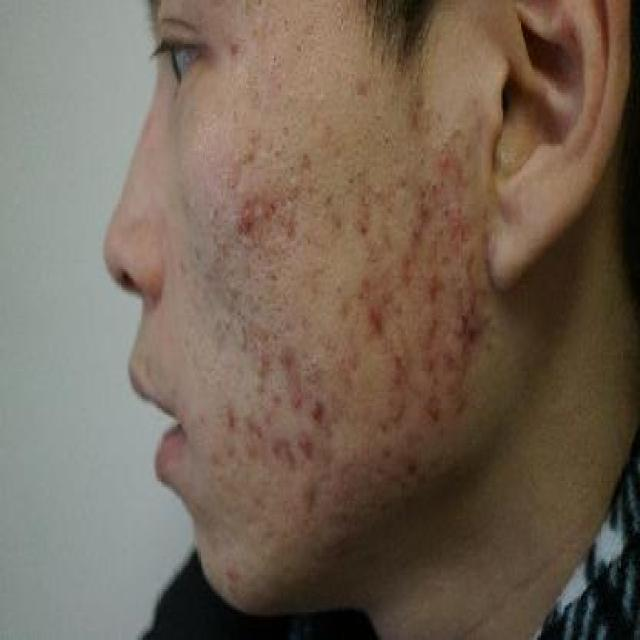blackheads: (329, 278, 346, 304), (298, 146, 314, 169), (442, 200, 458, 222), (278, 118, 294, 139), (283, 162, 299, 181), (352, 160, 366, 181), (438, 200, 451, 222), (383, 125, 394, 151), (290, 183, 304, 202), (268, 142, 280, 164), (438, 139, 454, 153), (383, 202, 395, 220), (323, 190, 335, 207), (361, 176, 374, 190), (416, 153, 424, 174), (346, 176, 356, 192), (408, 144, 417, 160), (452, 123, 462, 137), (440, 146, 448, 162), (372, 111, 382, 123)
dark spot: (230, 202, 264, 255), (361, 297, 394, 341), (408, 192, 437, 225), (275, 341, 300, 373)
papules: (308, 392, 330, 431)
